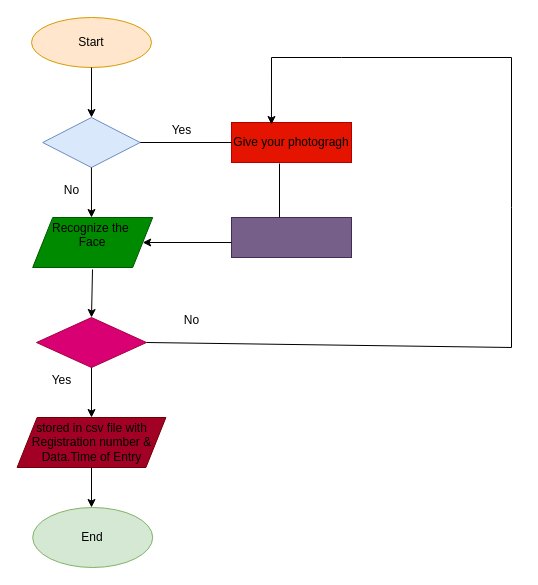
The diagram is 538 pixels wide and 585 high, and some of its shapes have lost their labels. The shapes that lost their labels are listed below. From the top down, each one's centre as x and y in pixels, then its label:
At (91,142): "NEW USER?".
At (291,237): "store the face data in folder on your name".
At (91,342): "Face Reconginzed".
